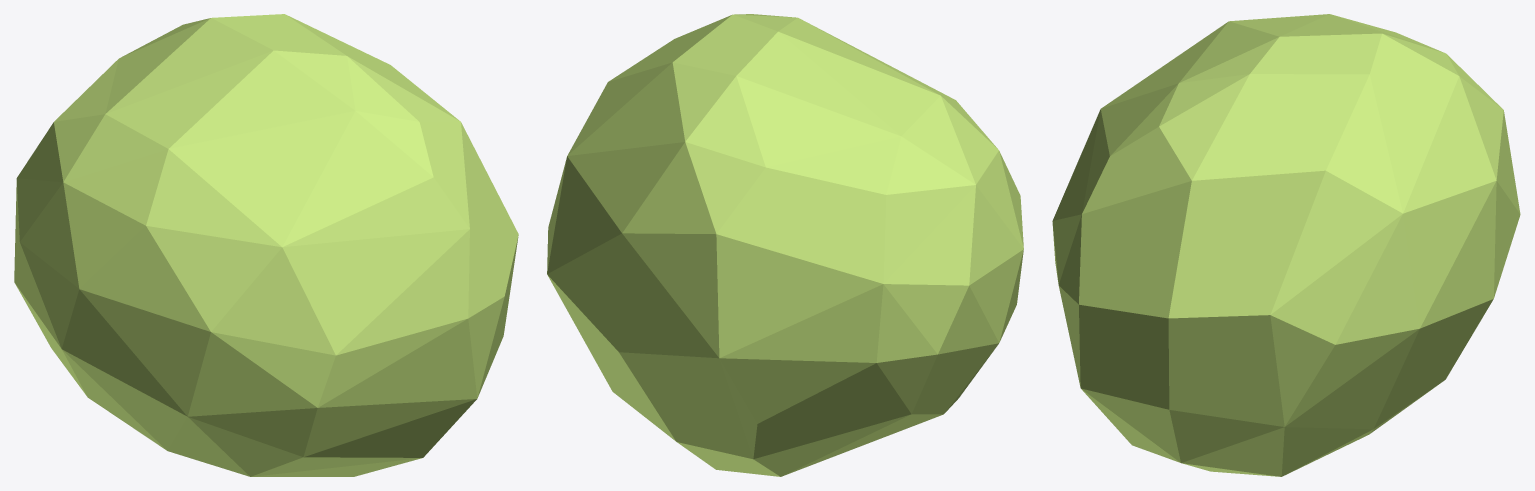
Rendered from Bush_a_l_03.fbx.
The picture shows the model from 3 angles, left to right: view 1: azimuth 30°, elevation 25°; view 2: azimuth 150°, elevation 25°; view 3: azimuth 270°, elevation 25°; orthographic projection. The views are drawn at different scales.
Parts seen in each view (by area): view 1: Bush_a_l_03; view 2: Bush_a_l_03; view 3: Bush_a_l_03.
Part boxes in pixels (x1,y1,x2,y2): Bush_a_l_03: [14, 14, 518, 476]; Bush_a_l_03: [547, 14, 1023, 476]; Bush_a_l_03: [1052, 14, 1520, 476].
Size of the model in its own units: 300 by 280 by 287.
